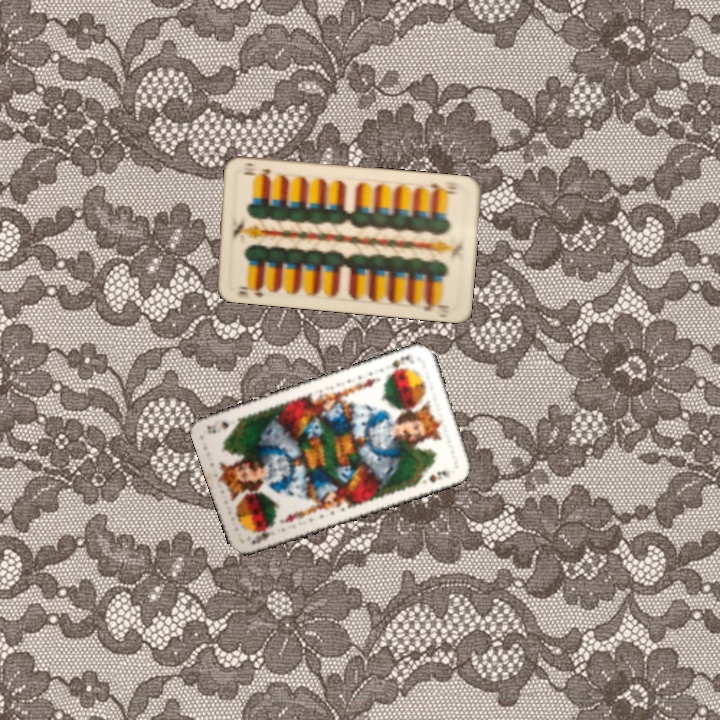E10: (235, 280, 267, 300), (426, 179, 459, 197)
SK: (384, 351, 412, 376), (248, 525, 277, 547)
